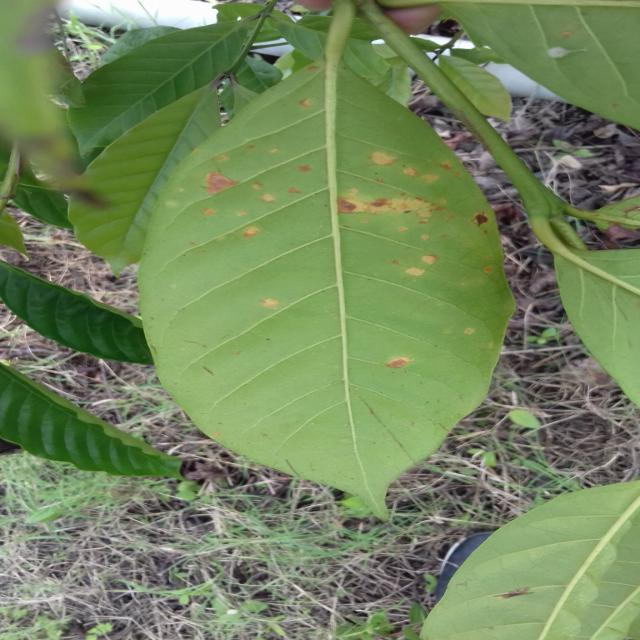Enfermedad-Roya: (133, 66, 513, 519)
